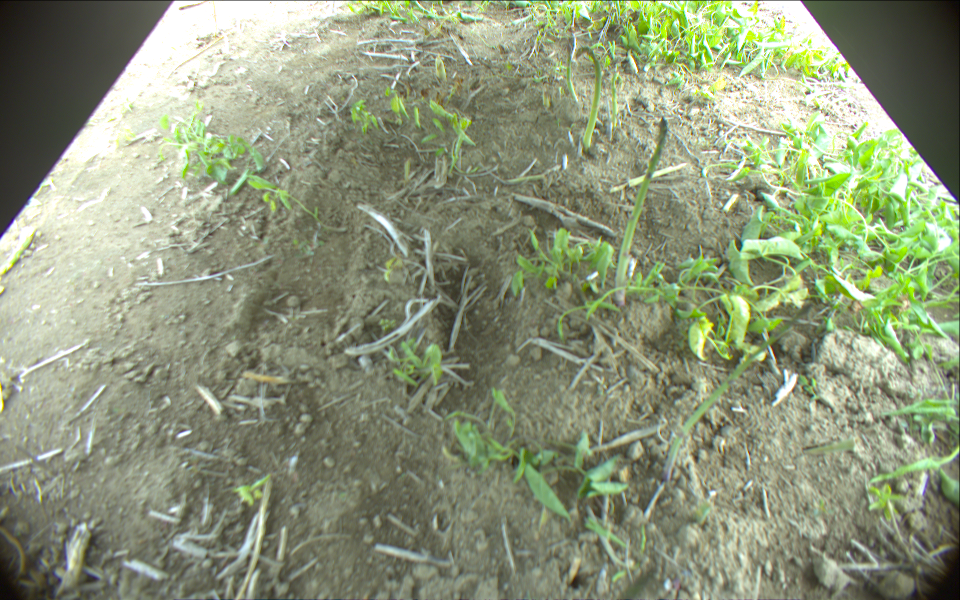aspa: (660, 302, 815, 481), (613, 117, 668, 304), (577, 48, 600, 147), (1, 227, 37, 278), (568, 30, 581, 103), (610, 71, 620, 126)
